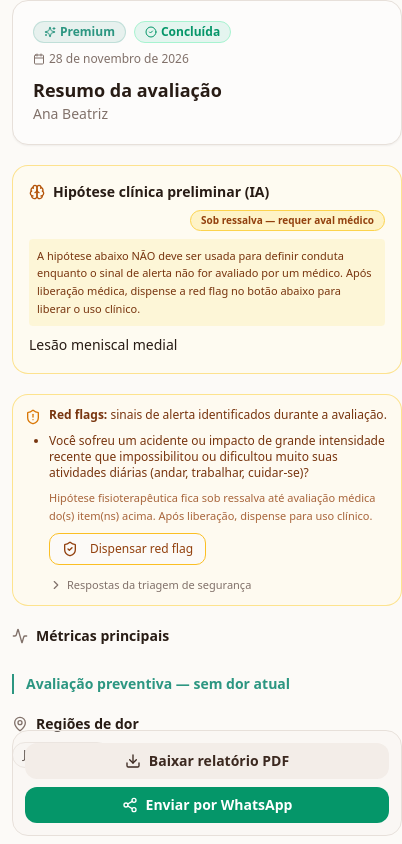
AssessmentSummaryView — respostas da triagem de red flags › shape v1 (payload probatório): usa o texto da pergunta armazenado
Click the button "Respostas da triagem de segurança" at (150, 585), box [49, 576, 251, 593]
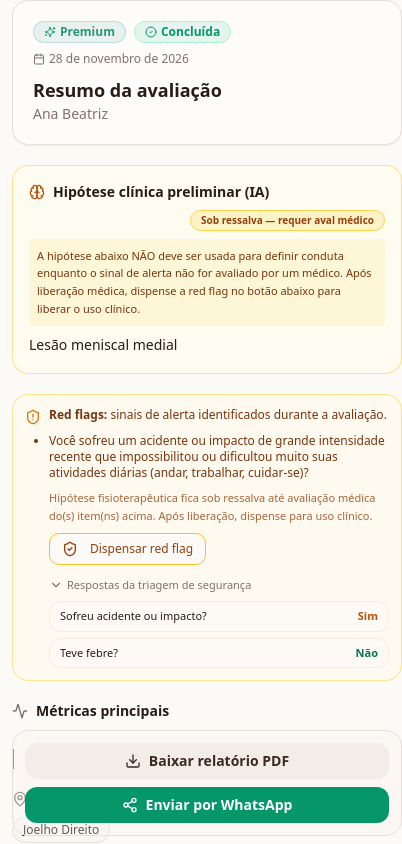
Expected: the text "Sofreu acidente ou impacto?" is shown, [60, 608, 207, 623]
Expected: the text "Teve febre?" is shown, [60, 644, 118, 660]
Expected: the text "Sim" is shown, [358, 608, 378, 624]
